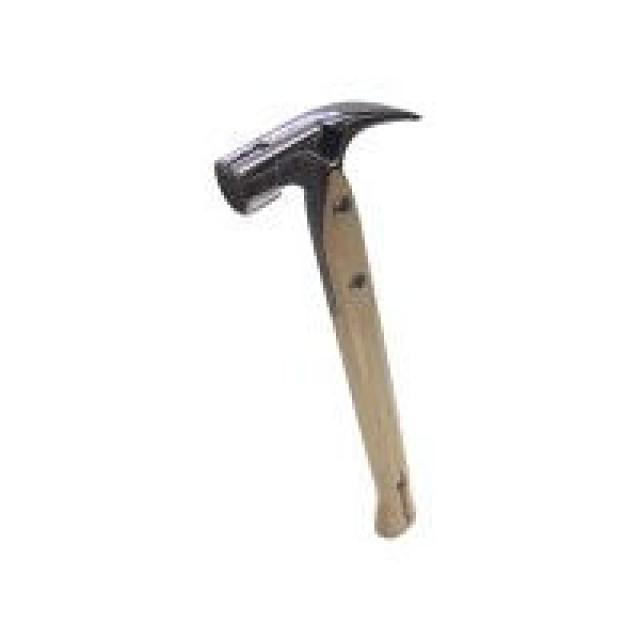hammer: (198, 86, 436, 546)
